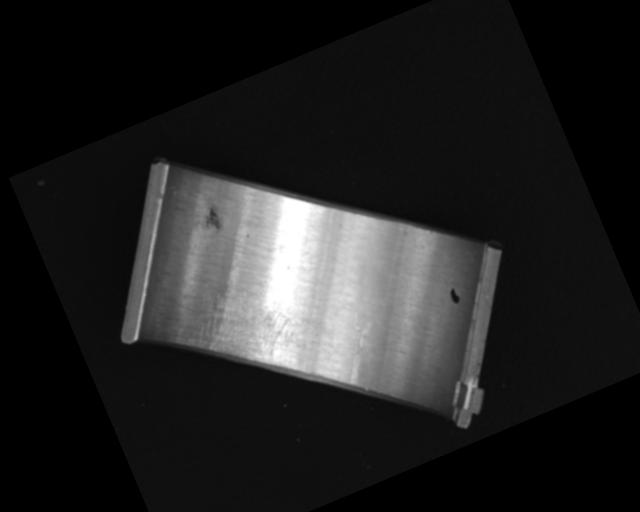blot: (446, 286, 462, 306)
bruise: (199, 205, 226, 237)
nick: (324, 306, 391, 386)
scratch: (165, 264, 322, 402)
